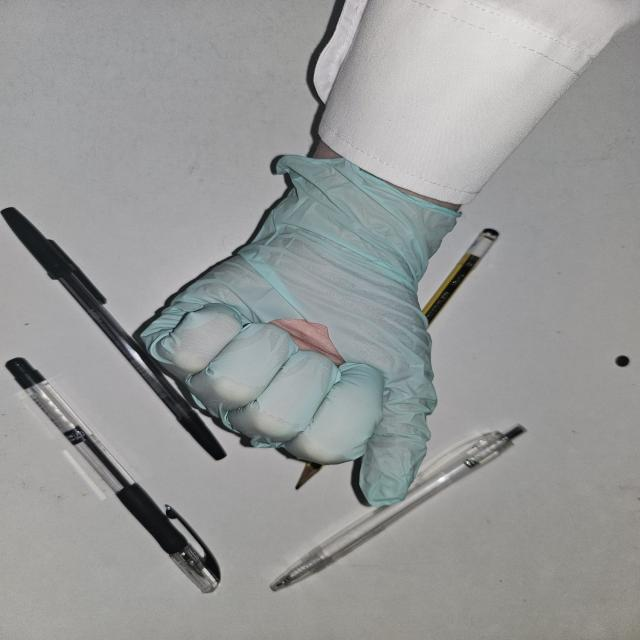gloves_damaged: (137, 153, 465, 504)
